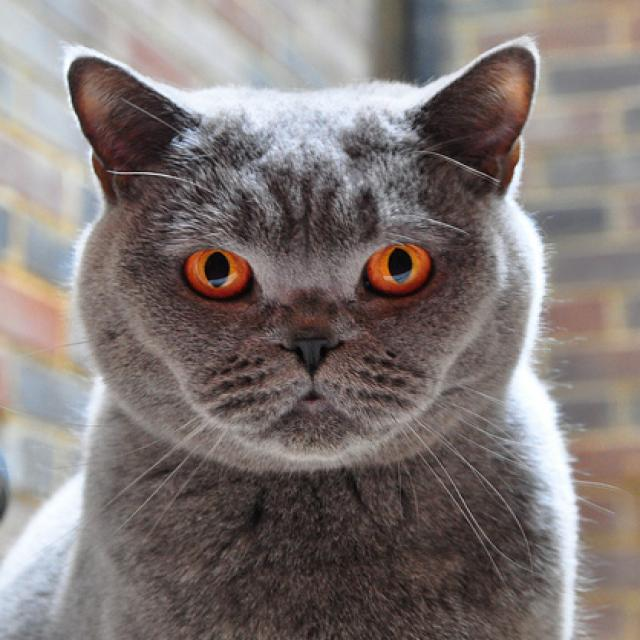British Shorthair: (0, 32, 583, 640)
